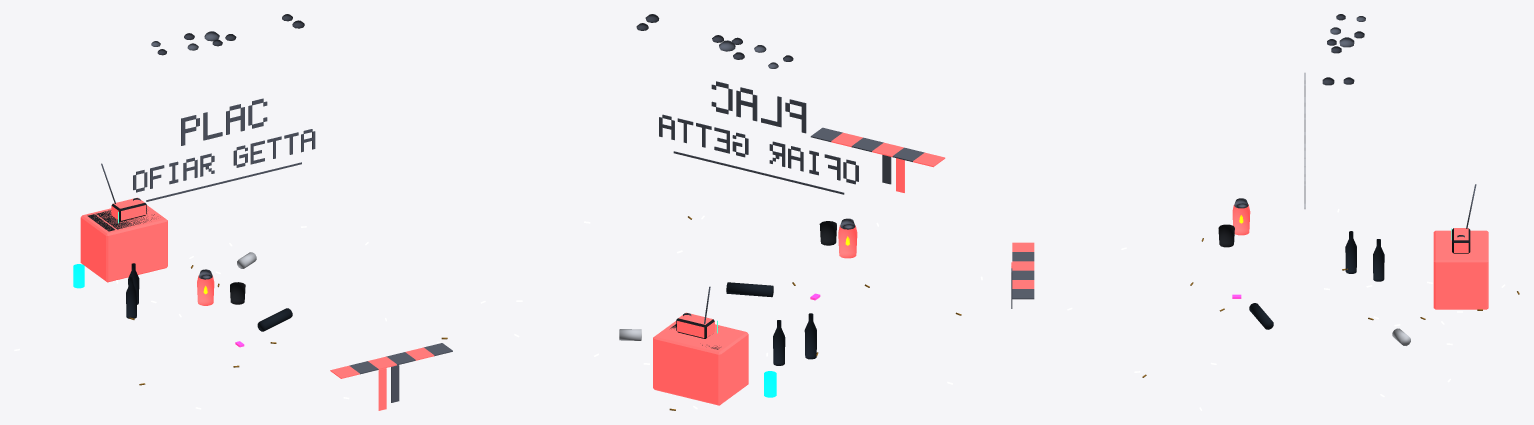
Rendered from room-detail-t2-props.glb.
The picture shows the model from 3 angles, left to right: view 1: azimuth 30°, elevation 25°; view 2: azimuth 150°, elevation 25°; view 3: azimuth 270°, elevation 25°; orthographic projection. The views are drawn at different scales.
Parts seen in each view (by area): view 1: rd-t2-tribute, rd-t2-lookout, rd-t2-hebi; view 2: rd-t2-tribute, rd-t2-lookout, rd-t2-hebi; view 3: rd-t2-lookout, rd-t2-tribute, rd-t2-hebi.
Part boxes in pixels (box(x1,y1,x2,y2)): rd-t2-tribute: box(133, 14, 452, 410); rd-t2-lookout: box(73, 163, 220, 303); rd-t2-hebi: box(14, 226, 485, 409); rd-t2-tribute: box(636, 14, 945, 258); rd-t2-lookout: box(643, 286, 776, 409); rd-t2-hebi: box(514, 215, 982, 410); rd-t2-lookout: box(1366, 184, 1505, 326); rd-t2-tribute: box(1011, 14, 1365, 308); rd-t2-hebi: box(1067, 209, 1519, 410).
Size of what is drawn, in the model's own units: 2.6 by 1.65 by 2.78.
1 material, 1 textured.
